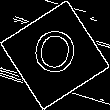O_S: (28, 26, 82, 84)
